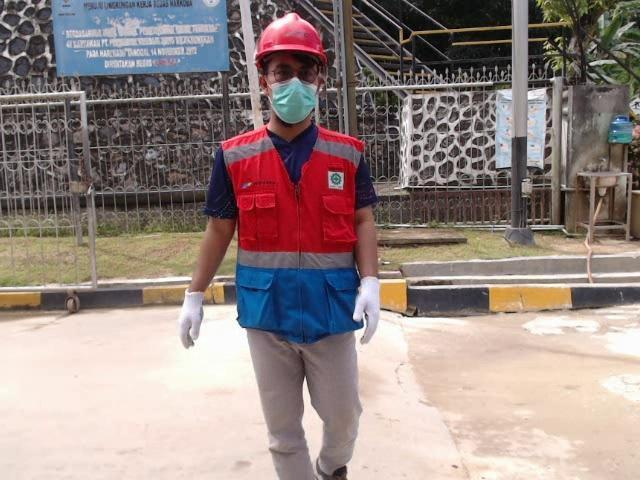helmet: (252, 9, 331, 63)
